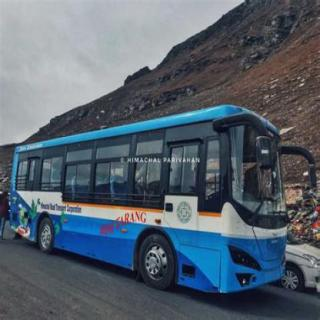Normal_vehicle: (9, 108, 311, 296)
